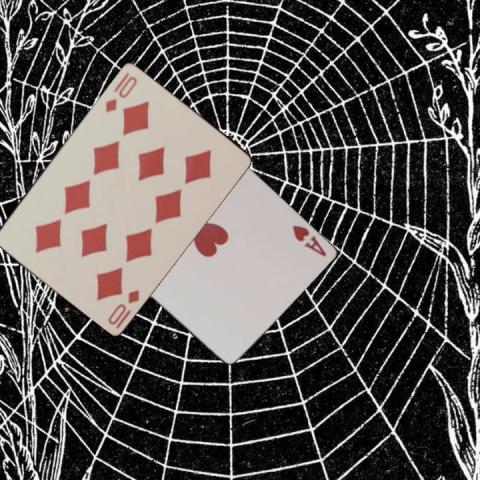10d: (105, 286, 141, 330), (102, 73, 139, 113)
Ah: (289, 222, 327, 258)
